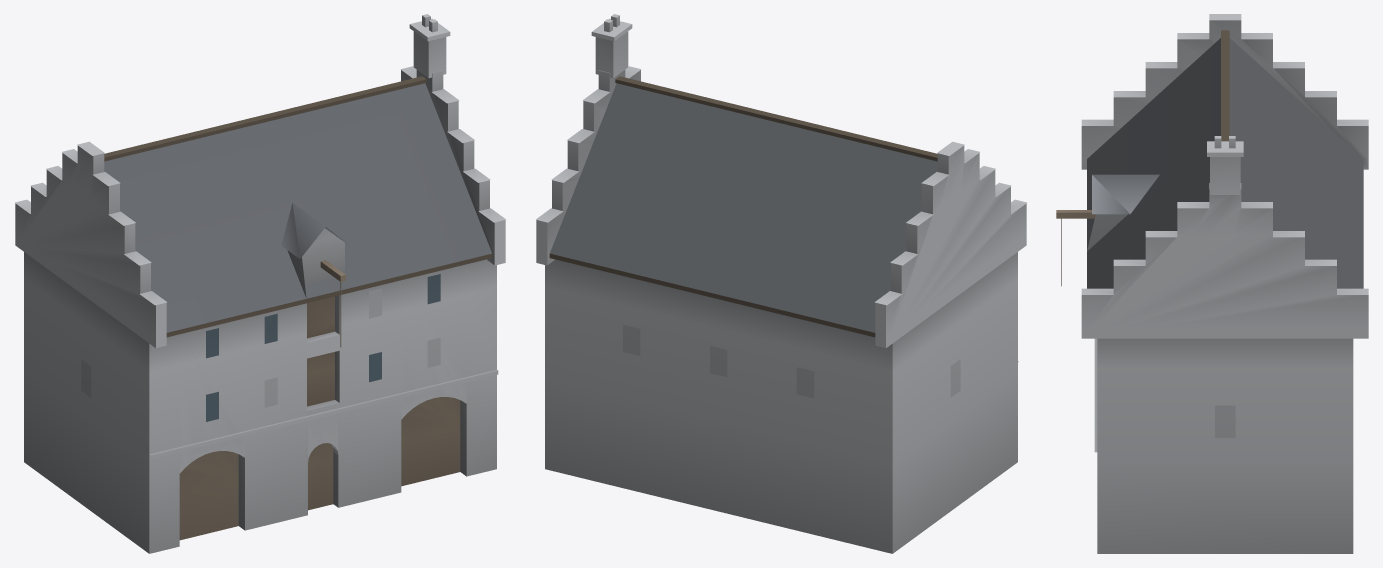
The model's file is sg_warehouse.glb.
The picture shows the model from 3 angles, left to right: view 1: azimuth 30°, elevation 25°; view 2: azimuth 150°, elevation 25°; view 3: azimuth 270°, elevation 25°; orthographic projection. The views are drawn at different scales.
Visible parts, largest first — view 1: sg_warehouse_SG_Stone, sg_warehouse_SG_Slate, sg_warehouse_SG_Joinery, sg_warehouse_SG_Glass; view 2: sg_warehouse_SG_Stone, sg_warehouse_SG_Slate, sg_warehouse_SG_Joinery; view 3: sg_warehouse_SG_Stone, sg_warehouse_SG_Slate, sg_warehouse_SG_Joinery.
Boxes of the visible parts, left/top/right/bottom form: sg_warehouse_SG_Stone: left=15, top=14, right=505, bottom=553; sg_warehouse_SG_Slate: left=104, top=83, right=491, bottom=332; sg_warehouse_SG_Joinery: left=104, top=76, right=492, bottom=540; sg_warehouse_SG_Glass: left=206, top=274, right=440, bottom=421; sg_warehouse_SG_Stone: left=536, top=14, right=1026, bottom=553; sg_warehouse_SG_Slate: left=550, top=83, right=937, bottom=332; sg_warehouse_SG_Joinery: left=549, top=76, right=937, bottom=337; sg_warehouse_SG_Stone: left=1081, top=14, right=1368, bottom=553; sg_warehouse_SG_Slate: left=1087, top=38, right=1363, bottom=288; sg_warehouse_SG_Joinery: left=1056, top=30, right=1229, bottom=286.
Bounding box in the file's own units: 16.41 × 17.85 × 12.2.
